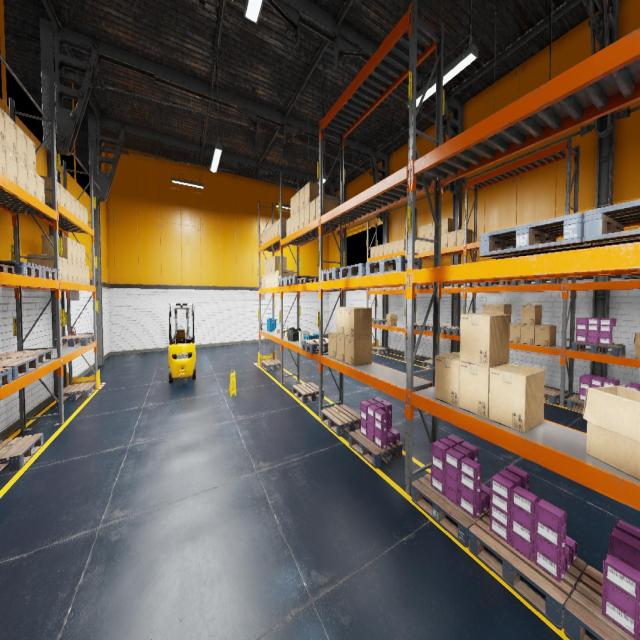box: (582, 386, 640, 480), (488, 363, 544, 433), (459, 361, 508, 418), (460, 313, 510, 367), (435, 352, 460, 407), (27, 254, 63, 280), (344, 307, 372, 337), (344, 336, 372, 366), (42, 234, 72, 260), (336, 307, 358, 335), (4, 111, 17, 156), (40, 175, 60, 204), (316, 194, 338, 218), (5, 146, 18, 185), (535, 324, 556, 347), (304, 182, 324, 206), (16, 123, 27, 165), (521, 304, 542, 324), (26, 134, 36, 172), (17, 157, 28, 191), (27, 165, 37, 198), (493, 304, 511, 322), (520, 324, 534, 344), (36, 173, 45, 203), (278, 270, 294, 286), (457, 229, 472, 245), (336, 334, 344, 362), (328, 331, 336, 359), (272, 256, 286, 272), (441, 218, 455, 234), (0, 142, 6, 177), (510, 322, 520, 342), (0, 107, 5, 145), (278, 218, 289, 234), (634, 332, 640, 358), (60, 184, 66, 208), (386, 313, 397, 326), (70, 194, 76, 217), (62, 258, 68, 281), (72, 240, 78, 263), (304, 203, 310, 225), (448, 231, 456, 247), (299, 186, 304, 210), (440, 233, 448, 248), (310, 199, 315, 222), (425, 236, 432, 252), (66, 190, 71, 212), (68, 260, 73, 282), (73, 261, 78, 283), (77, 242, 82, 264), (294, 191, 299, 213), (299, 208, 304, 228), (482, 304, 493, 313), (426, 222, 432, 238), (290, 195, 294, 217), (76, 199, 80, 219), (78, 263, 82, 283), (82, 264, 86, 284), (295, 211, 299, 231), (399, 238, 405, 251), (388, 241, 394, 254), (419, 225, 425, 238), (80, 203, 84, 222), (290, 214, 294, 233), (286, 217, 290, 236), (84, 207, 88, 225), (419, 240, 425, 252), (82, 245, 85, 265), (86, 266, 89, 284), (384, 242, 388, 255), (275, 220, 278, 236), (272, 222, 275, 238), (275, 270, 278, 286), (272, 271, 275, 287), (269, 272, 272, 288), (269, 257, 272, 273), (394, 240, 398, 252), (379, 244, 383, 256), (374, 245, 378, 257), (269, 225, 272, 240), (415, 240, 418, 252), (267, 258, 269, 274), (280, 330, 286, 335), (267, 227, 269, 242), (371, 247, 374, 257), (264, 229, 266, 243), (262, 231, 264, 245), (267, 274, 269, 288), (264, 274, 266, 288), (262, 274, 264, 288), (264, 260, 266, 274), (432, 222, 434, 236), (432, 237, 434, 250), (275, 328, 280, 333), (283, 326, 289, 330), (285, 332, 287, 336)
forklift: (168, 303, 196, 383)
pallets: (469, 511, 586, 630), (411, 472, 490, 548), (479, 213, 602, 259), (564, 566, 634, 640), (583, 199, 640, 247), (349, 429, 402, 468), (0, 433, 43, 471), (321, 404, 360, 436), (366, 256, 422, 275), (0, 348, 53, 366), (0, 356, 38, 379), (572, 341, 625, 356), (57, 382, 96, 402), (0, 260, 42, 277), (292, 382, 324, 402), (340, 263, 374, 279), (321, 268, 358, 281), (55, 334, 95, 346), (301, 338, 328, 354), (567, 394, 584, 413), (286, 275, 318, 284), (544, 387, 560, 404), (520, 278, 562, 284), (423, 324, 450, 333), (0, 368, 12, 388), (262, 359, 280, 371), (42, 266, 57, 280), (488, 280, 520, 286), (441, 326, 460, 336), (406, 323, 430, 330), (372, 346, 388, 354), (418, 284, 444, 288), (621, 274, 640, 279), (405, 285, 428, 289), (278, 277, 288, 286), (467, 282, 488, 286), (423, 359, 432, 368), (372, 319, 386, 324)
